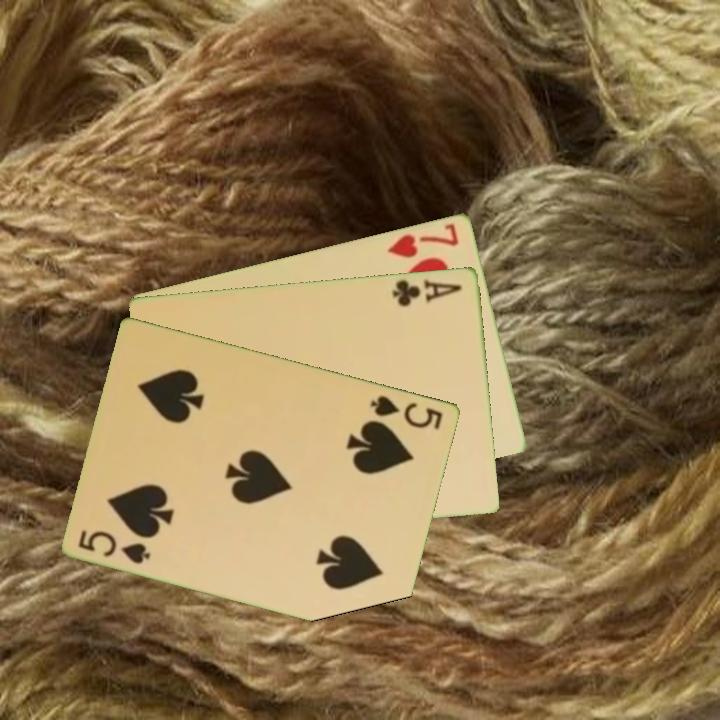5s: (367, 391, 446, 432), (75, 526, 154, 567)
7h: (384, 219, 462, 261)
Ac: (389, 275, 465, 309)
